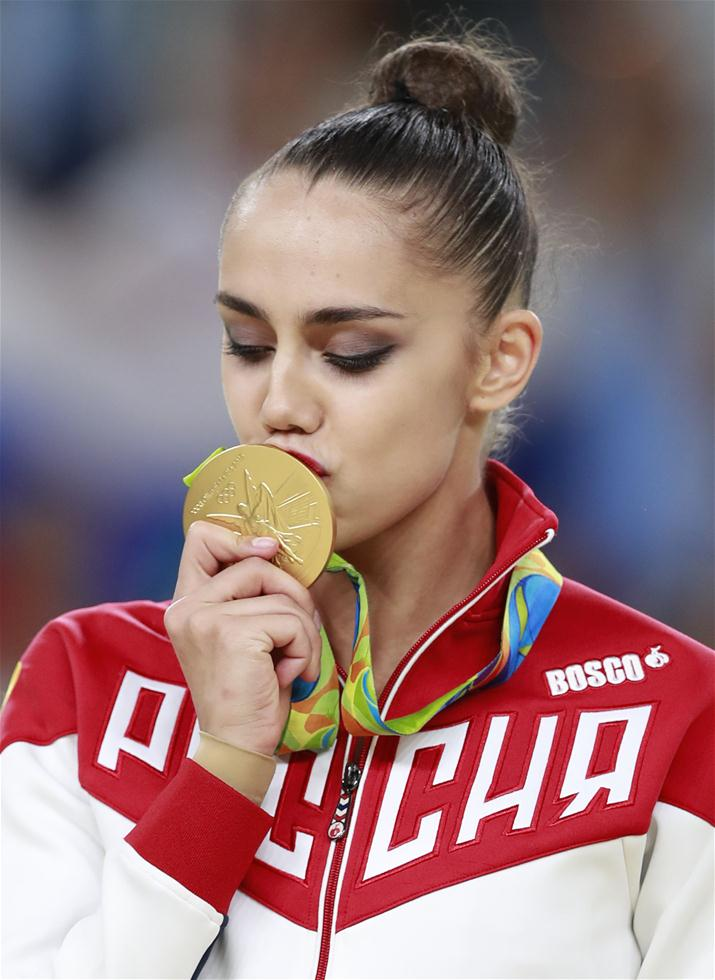face: (221, 187, 452, 552)
